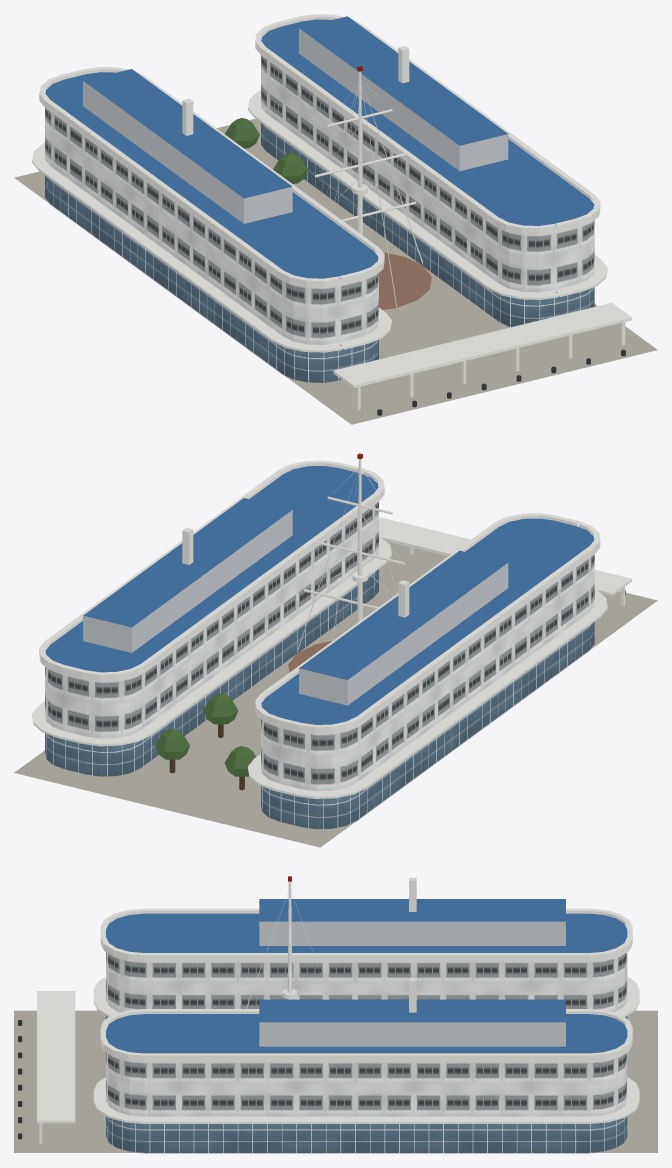
The model's file is takeshiba_pier.glb.
3 views of the same model, one above another, from view 1: azimuth 30°, elevation 25°; view 2: azimuth 150°, elevation 25°; view 3: azimuth 270°, elevation 25° (orthographic). The views are drawn at different scales.
Visible parts, largest first — view 1: takeshiba_pier; view 2: takeshiba_pier; view 3: takeshiba_pier.
Part boxes in pixels (x1=…): takeshiba_pier: x1=14, y1=14, x2=657, y2=424; takeshiba_pier: x1=14, y1=453, x2=657, y2=847; takeshiba_pier: x1=14, y1=876, x2=657, y2=1153.
Bounding box in the file's own units: 47.21 × 29.5 × 84.
2 materials, 2 textured.
